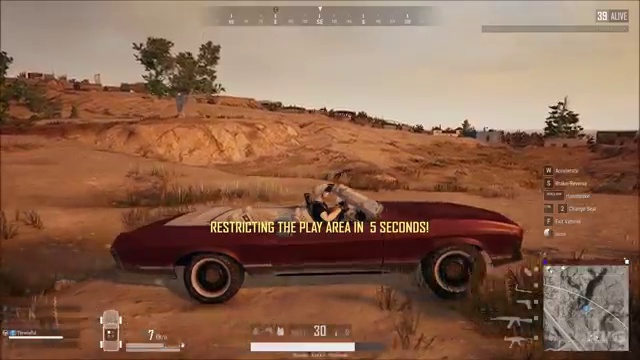Player: (287, 177, 362, 221)
